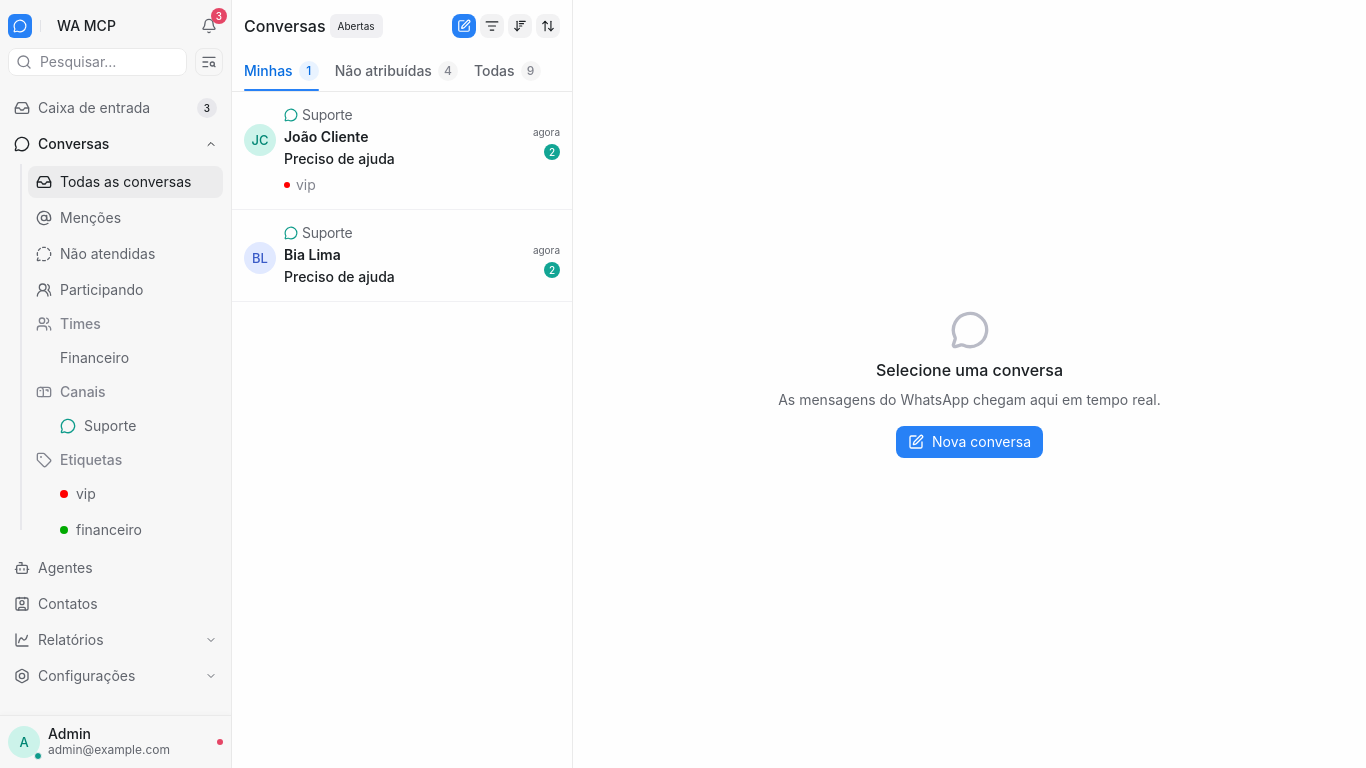
Test: keyboard shortcuts › opens the help with ? or the profile menu and closes it with Esc
The width and height of the screenshot is (1366, 768).
Expected: the heading "Conversas" is shown, [244,14,326,38]
Expected: the text "Bia Lima" is shown, [284,246,341,263]
Type keys "?"
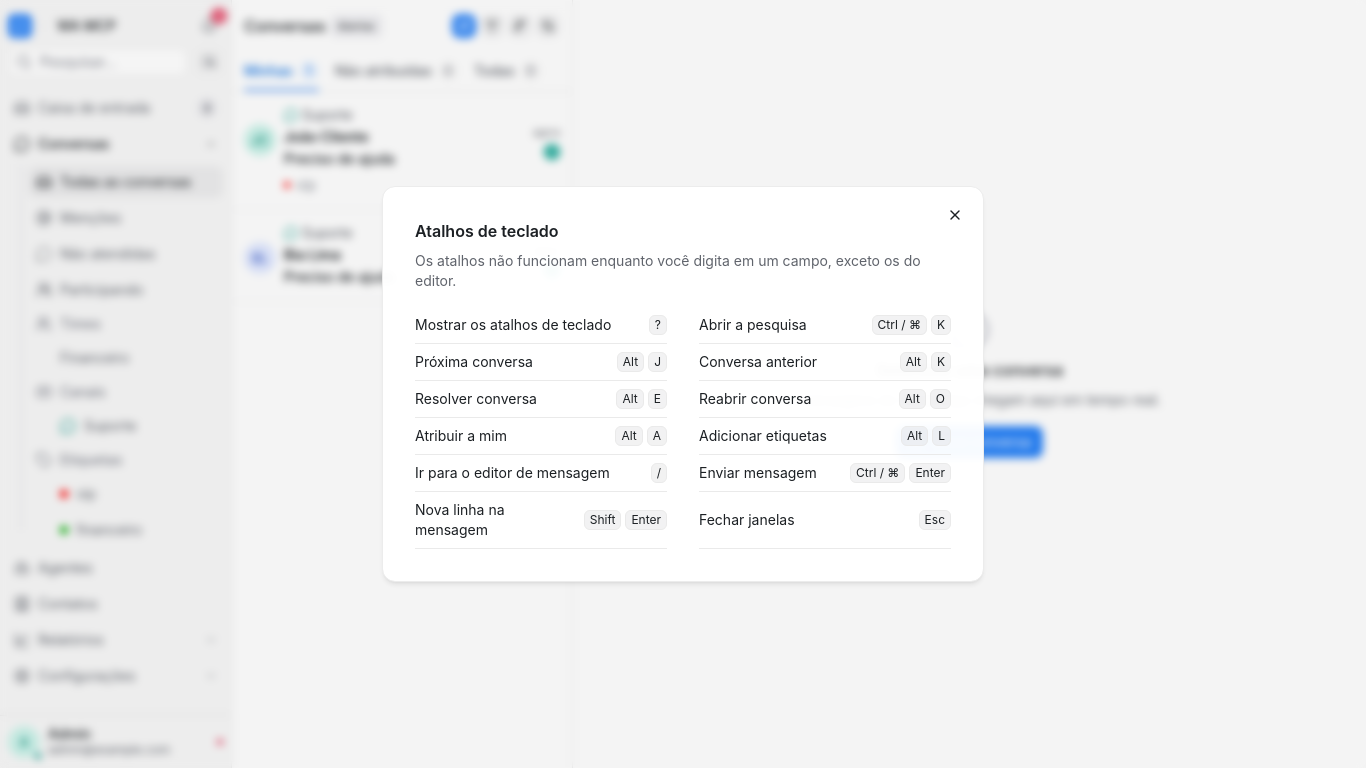
Result: the dialog "Atalhos de teclado" is shown at [383,187,983,581]
Result: the text "Próxima conversa" is shown at [415,352,533,372]
Press Escape
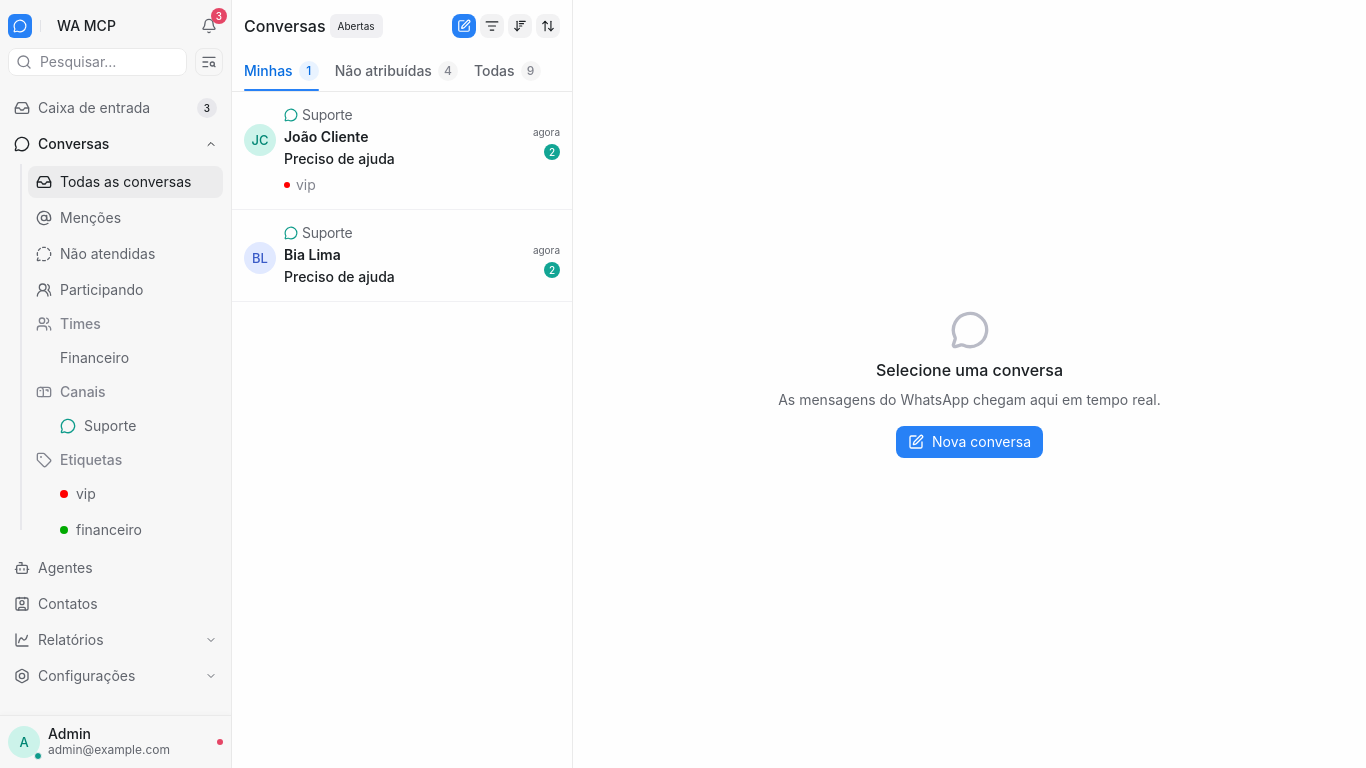
Result: the dialog is gone
Click the button with aria-label "Perfil" at (116, 742), box [4,722,227,762]
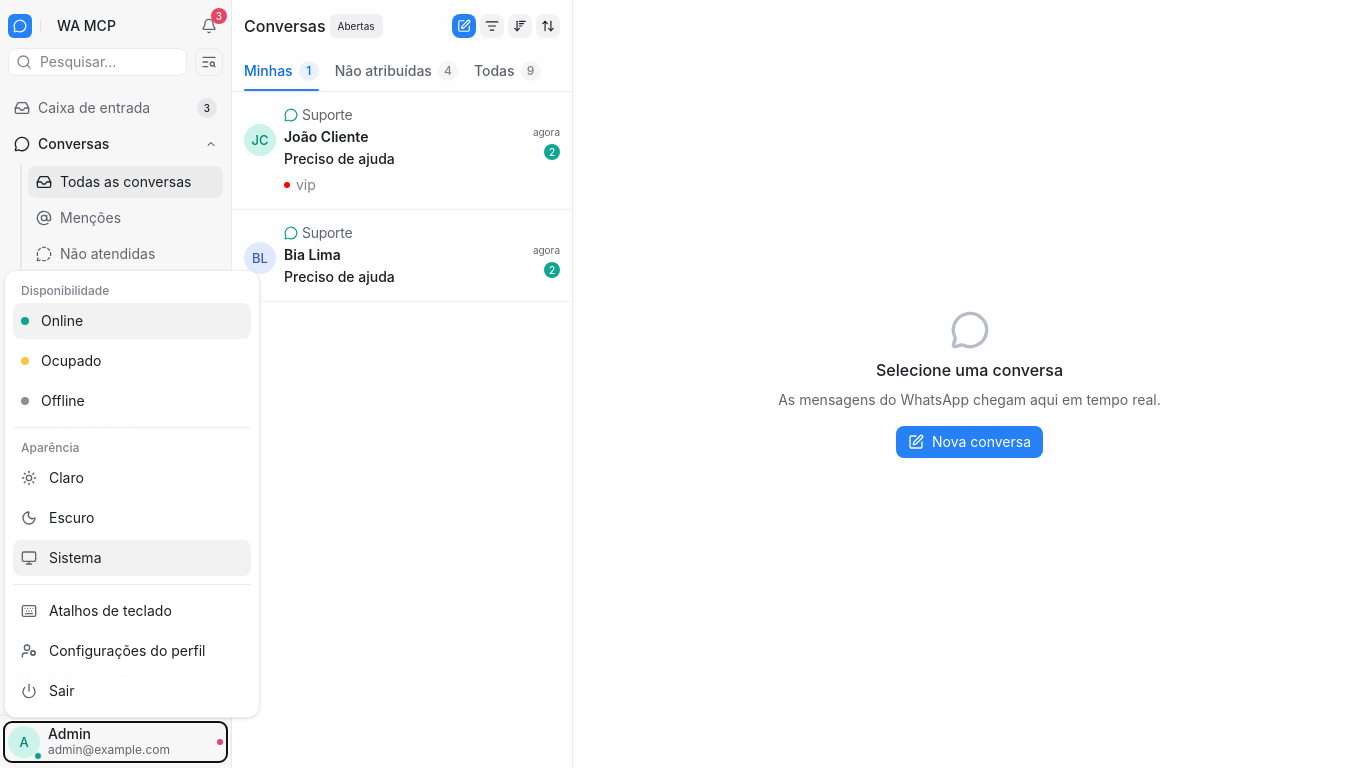
Click the menu item "Atalhos de teclado" at (132, 611), box [13,593,251,629]
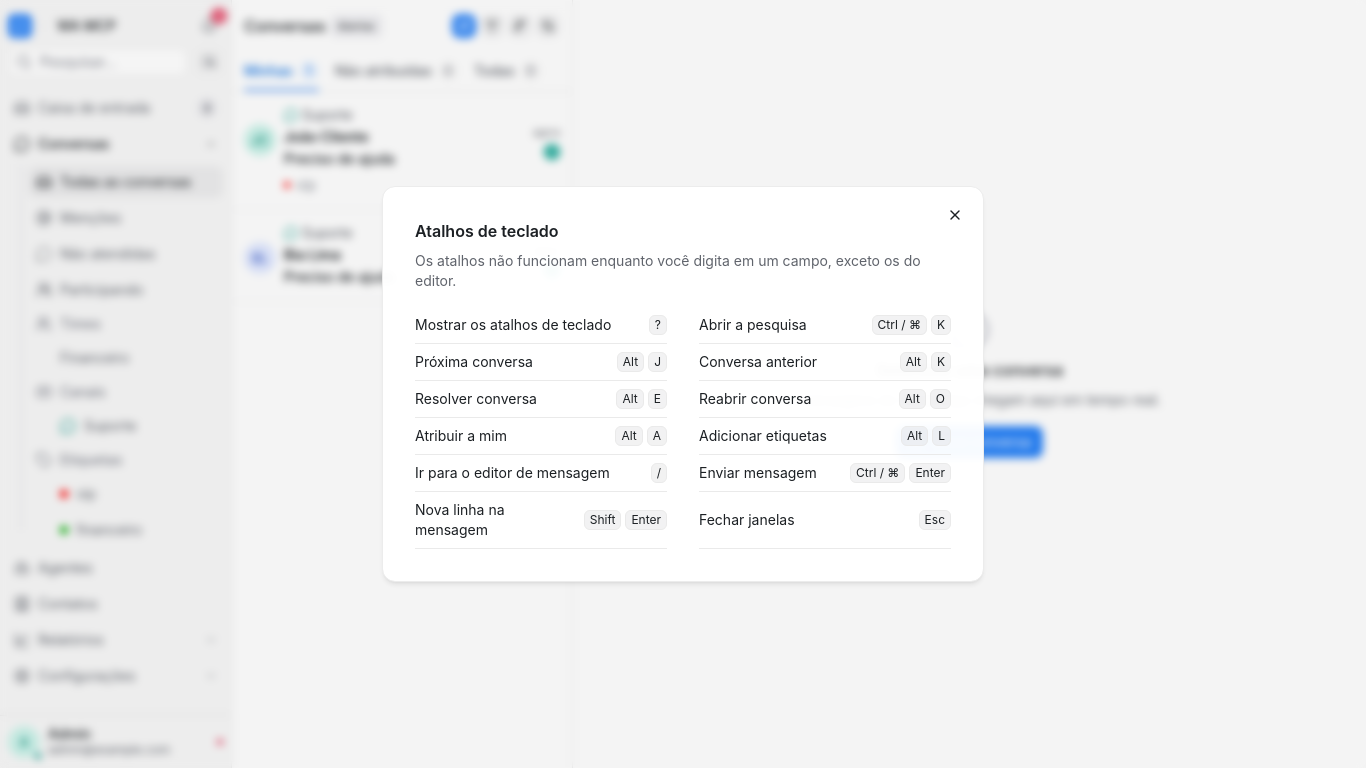
Result: the dialog "Atalhos de teclado" is shown at [383,187,983,581]
Click the button named "Fechar" at (955, 215), box [939,199,971,231]
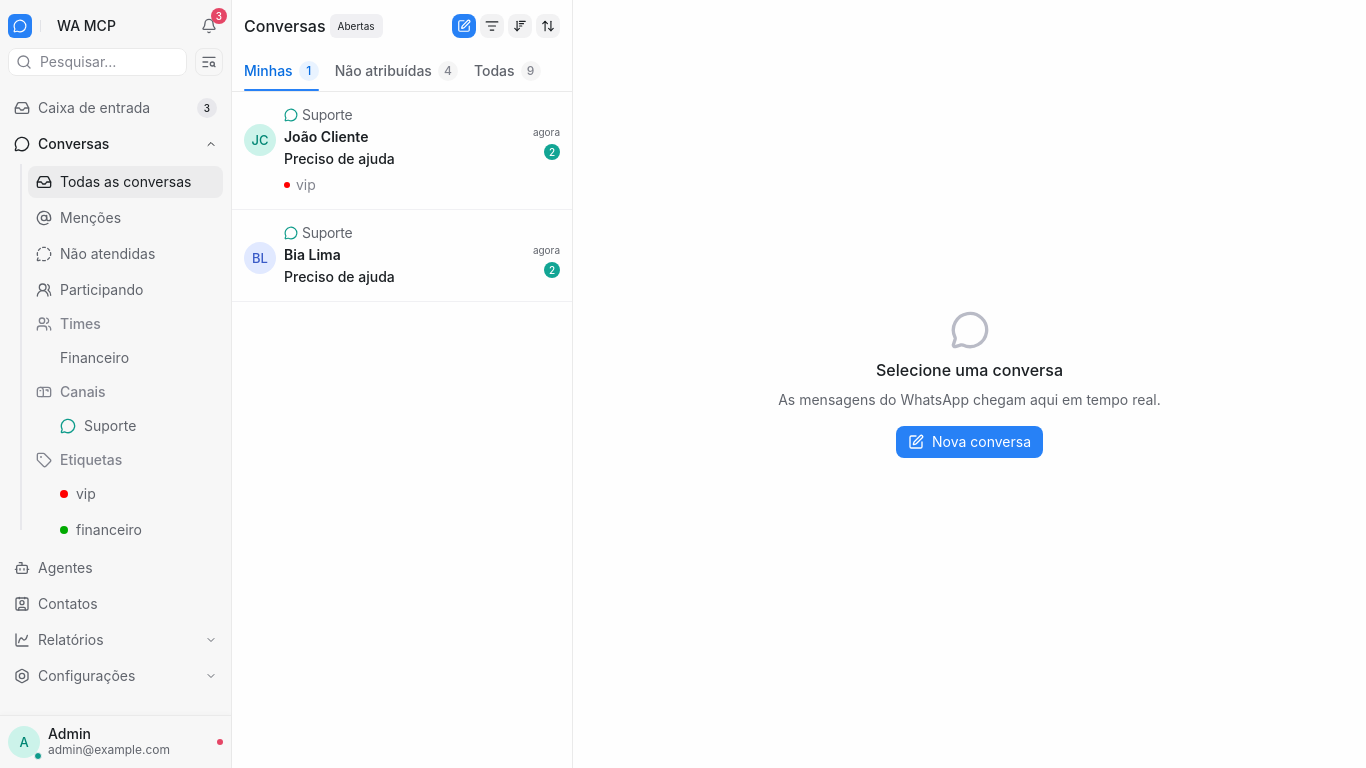
Result: the dialog is gone
